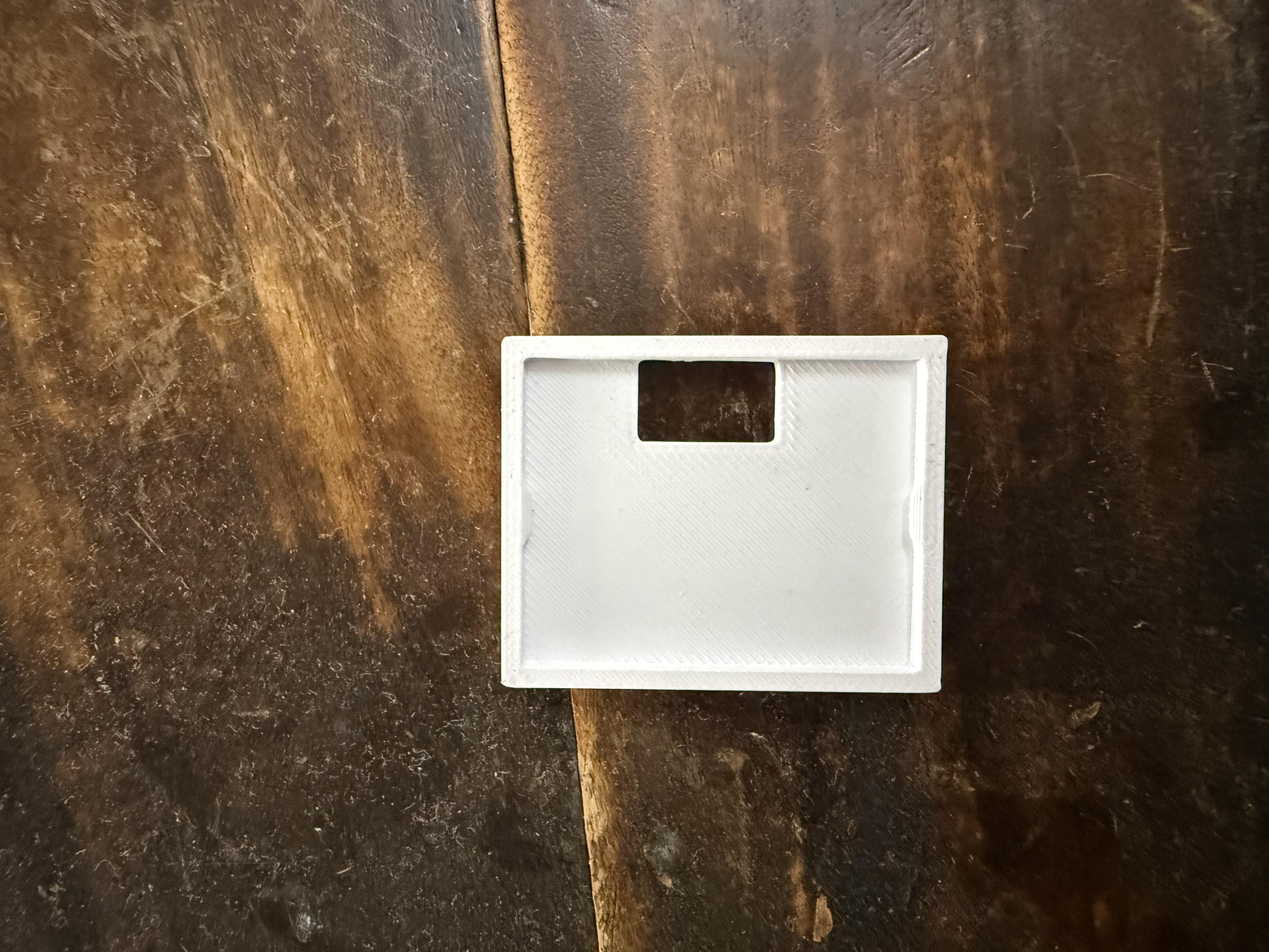enclosure: (501, 335, 948, 693)
